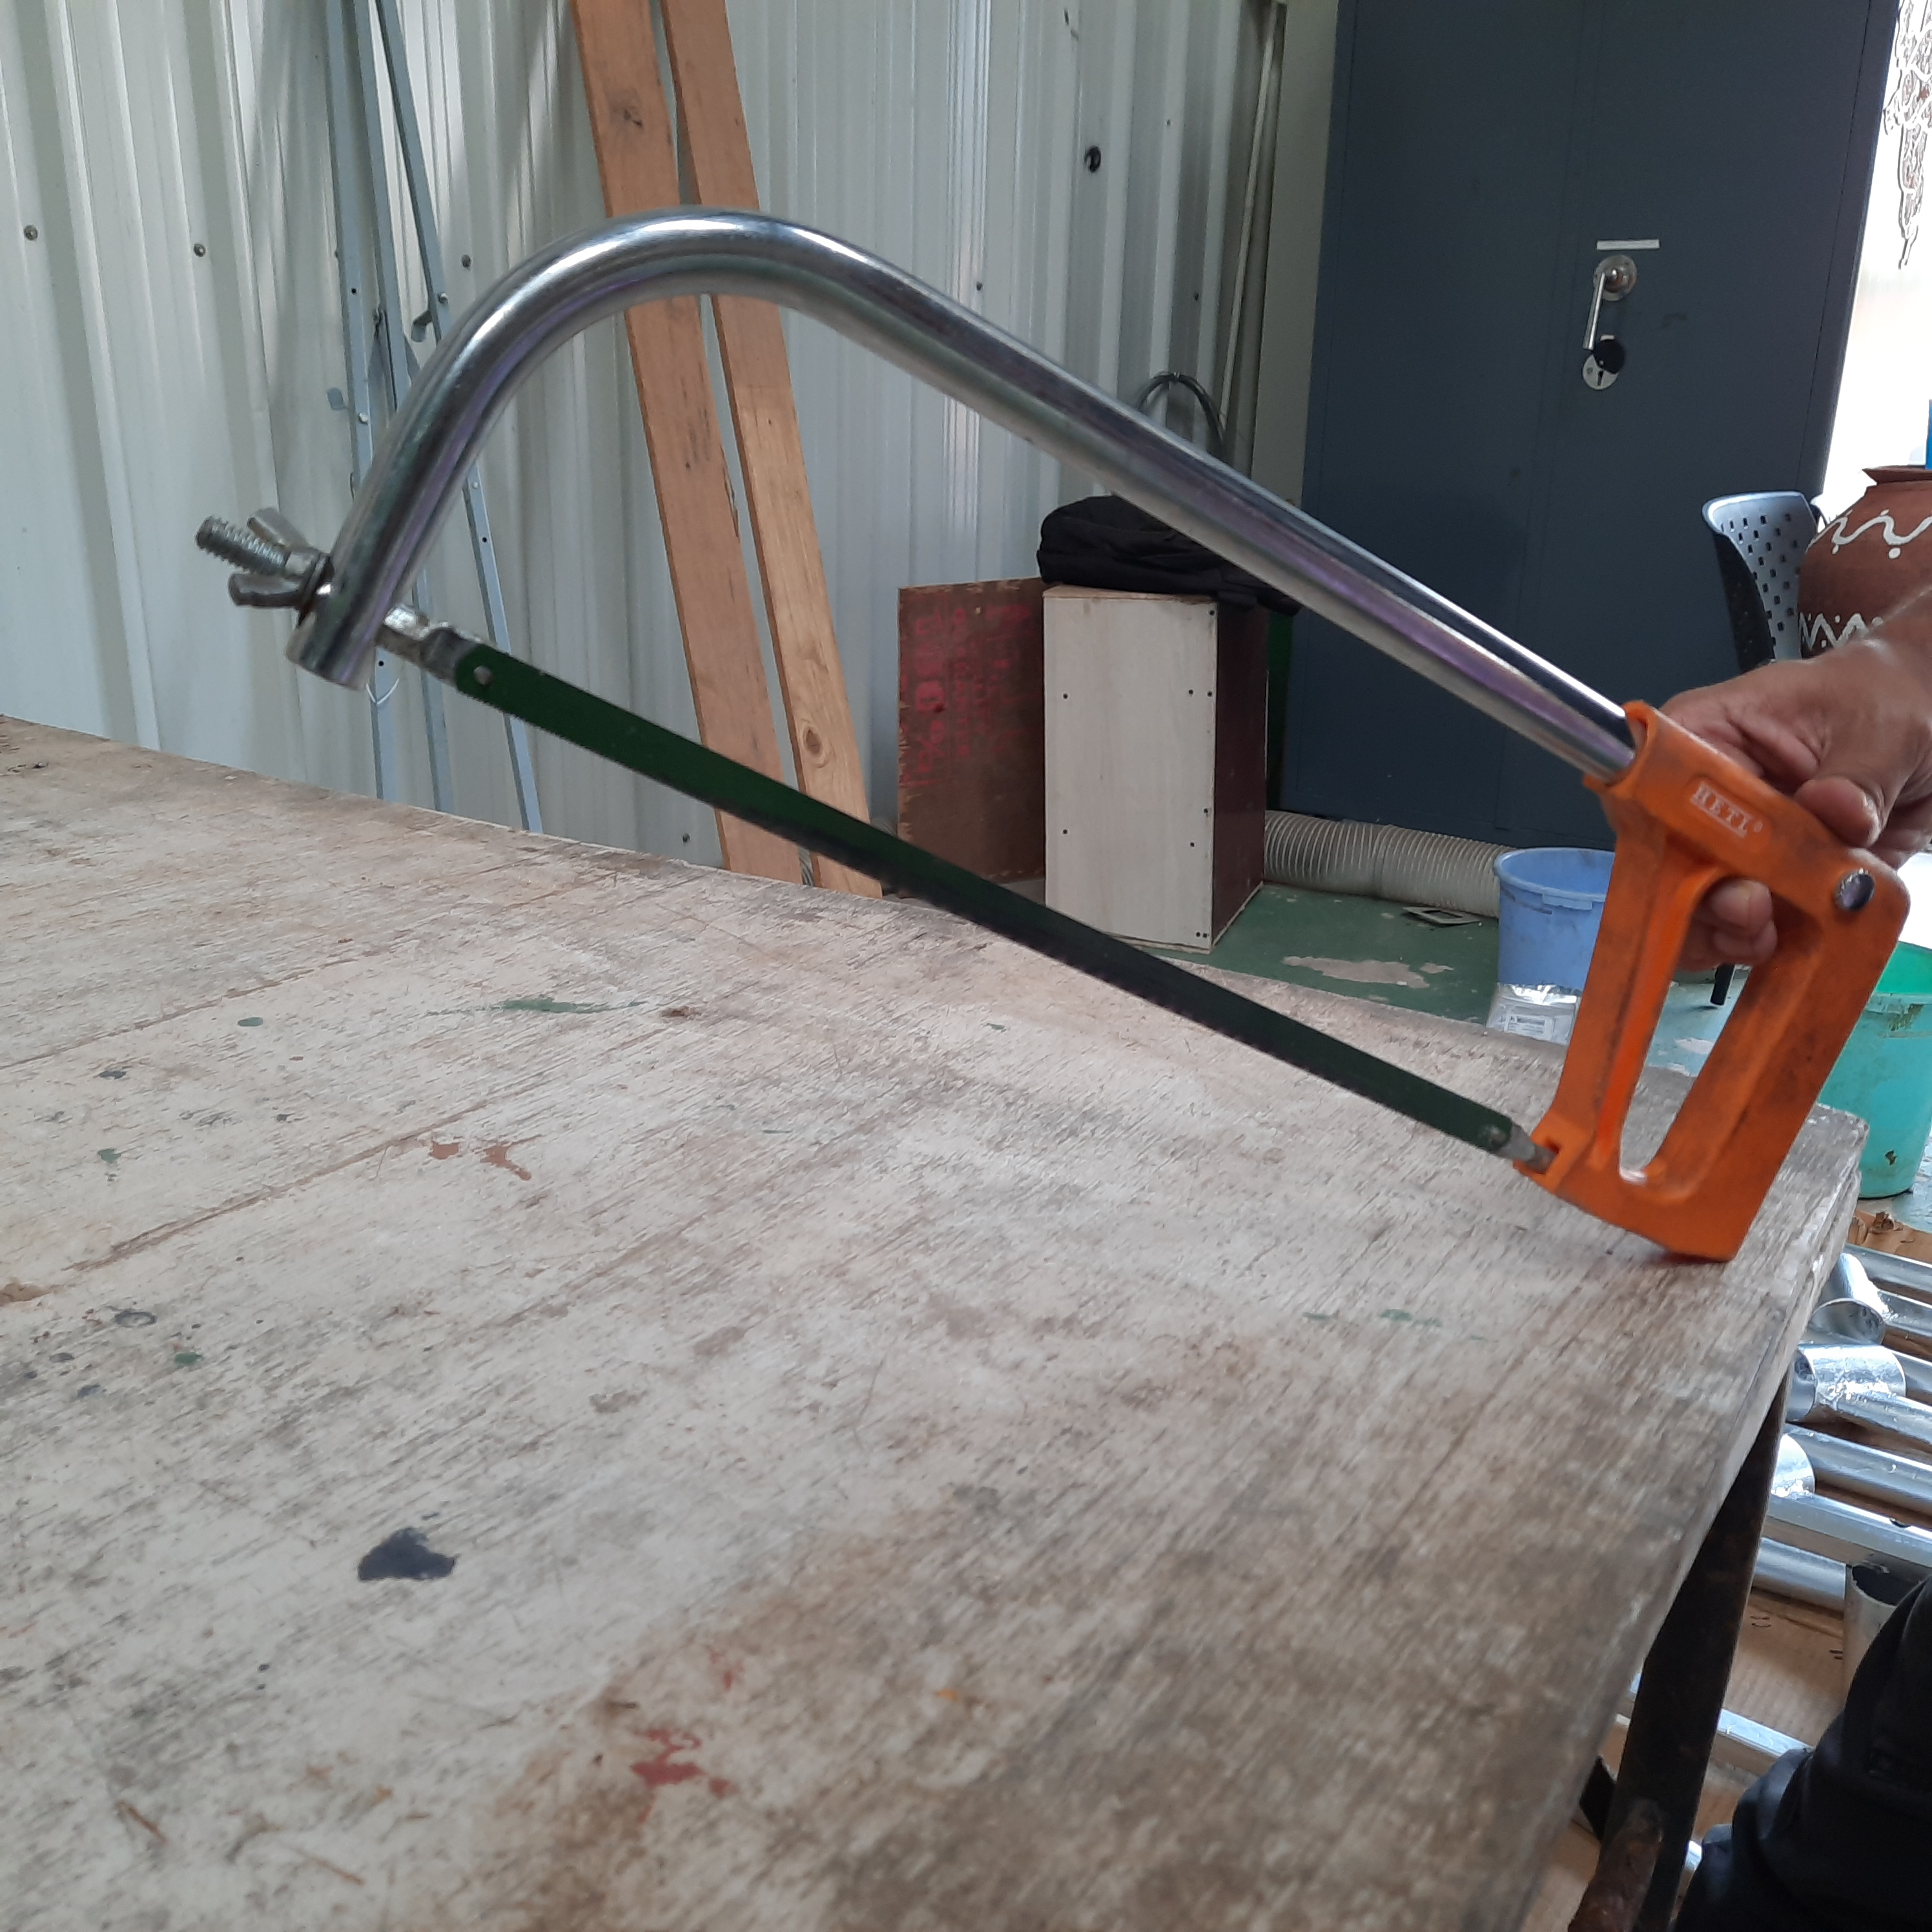Hexaframe: (177, 180, 1914, 1306)
